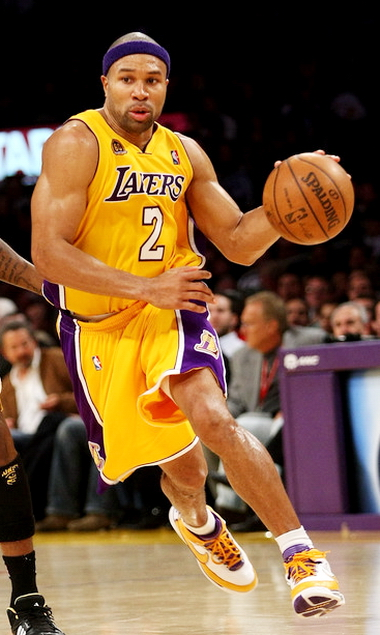ball: (261, 151, 355, 246)
